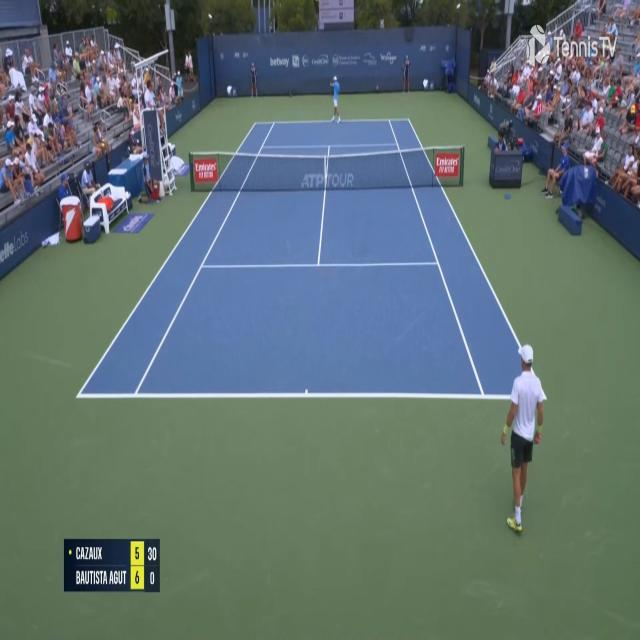tennis-player: (498, 344, 548, 537), (329, 74, 342, 124)
